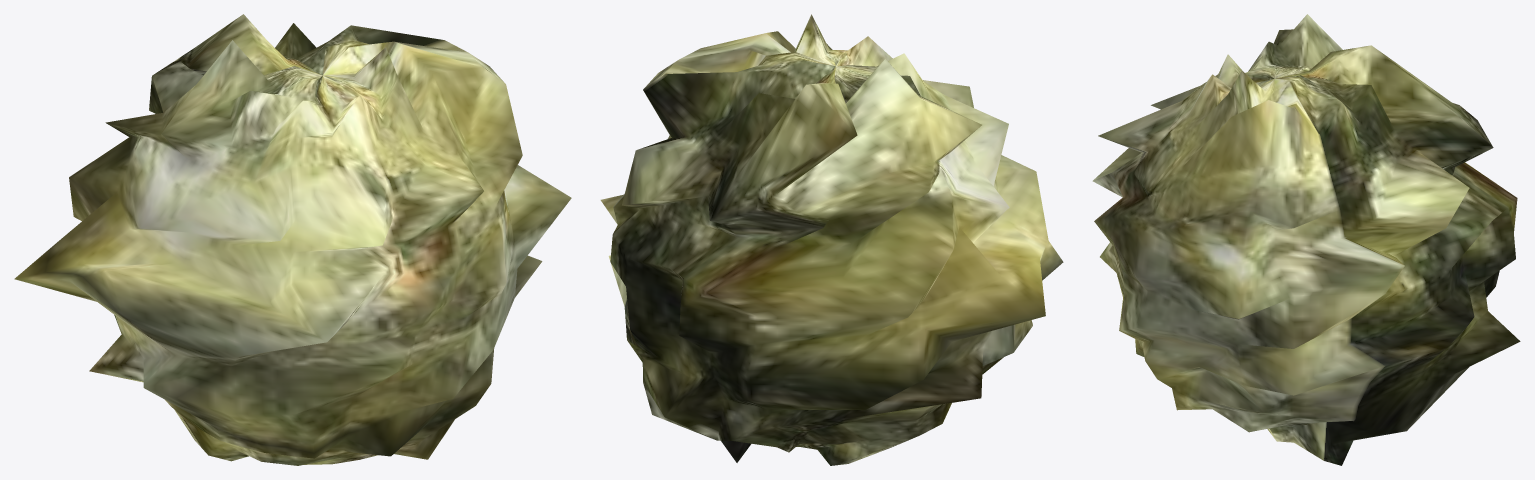
File: diogenite.fbx
3 views of the same model, side by side, from view 1: azimuth 30°, elevation 25°; view 2: azimuth 150°, elevation 25°; view 3: azimuth 270°, elevation 25° (orthographic). The views are drawn at different scales.
Parts seen in each view (by area): view 1: pSphere1; view 2: pSphere1; view 3: pSphere1.
Boxes of the visible parts, bbox=[...] form: pSphere1: bbox=[14, 14, 571, 465]; pSphere1: bbox=[600, 14, 1063, 465]; pSphere1: bbox=[1092, 14, 1520, 465].
Size of the model in its own units: 14.98 by 12.74 by 12.58.
1 material, 1 textured.
